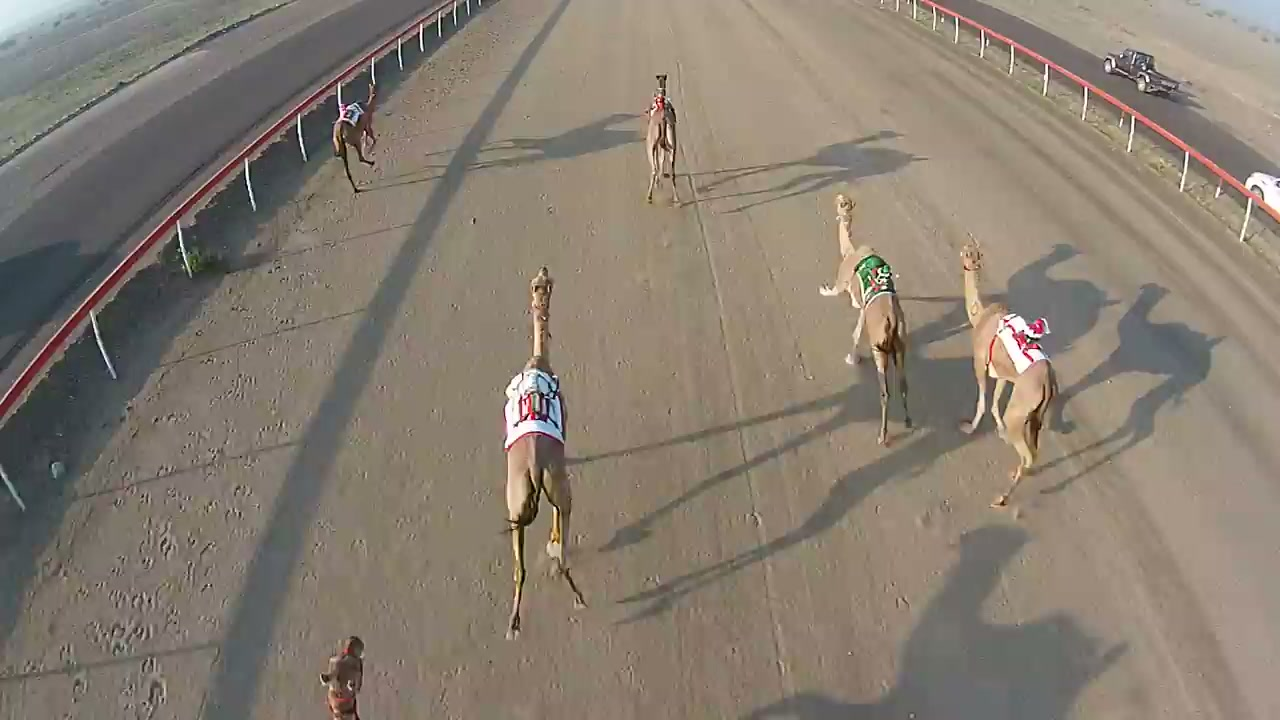animal_footprint: (84, 215, 333, 719)
